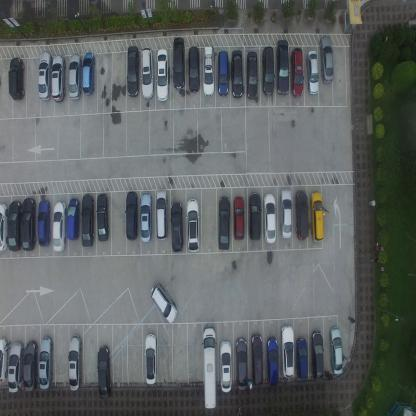car: (201, 325, 217, 411), (150, 282, 178, 326), (7, 341, 24, 394), (20, 196, 36, 251), (96, 344, 112, 399), (309, 191, 325, 243), (68, 334, 82, 393), (185, 198, 200, 252), (38, 336, 53, 390), (276, 39, 290, 96), (80, 192, 94, 249), (280, 325, 295, 378), (263, 193, 278, 245), (7, 200, 22, 252), (170, 199, 184, 254), (172, 35, 186, 90), (219, 338, 233, 393), (50, 54, 66, 102), (250, 333, 264, 387), (319, 34, 334, 84), (202, 44, 216, 97), (23, 339, 37, 392), (328, 326, 343, 375), (295, 190, 309, 242), (52, 200, 66, 252), (156, 46, 169, 102), (144, 334, 158, 386), (310, 330, 324, 382), (8, 56, 24, 101), (235, 337, 248, 392), (262, 45, 276, 96), (38, 50, 52, 101), (248, 192, 262, 242), (280, 188, 293, 241), (141, 47, 154, 100), (126, 45, 139, 98), (37, 199, 51, 248), (291, 48, 304, 100), (125, 190, 138, 241), (266, 336, 279, 387), (218, 196, 230, 251), (188, 45, 201, 93), (155, 189, 167, 241), (140, 190, 152, 242), (306, 48, 319, 96), (68, 53, 81, 101), (66, 197, 80, 241), (82, 52, 96, 96), (246, 50, 258, 101), (231, 49, 243, 100), (96, 192, 108, 242), (295, 338, 309, 380), (218, 50, 229, 97), (234, 196, 245, 241), (0, 334, 8, 386), (0, 202, 7, 253)
